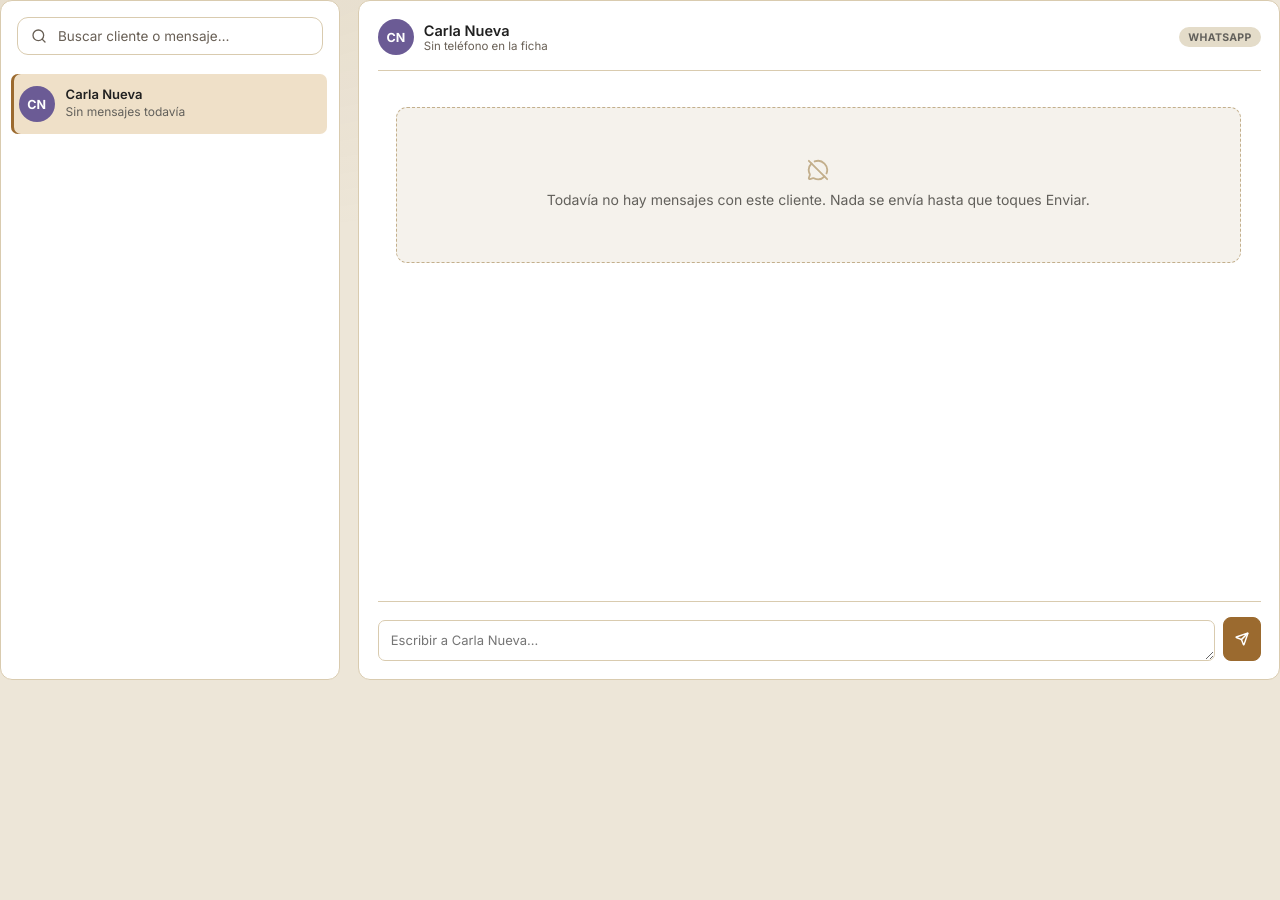
Scenario: Messages · Iniciar chat (tarea 38) › si el envío falla muestra el motivo del servidor y conserva el borrador
Type "Primer mensaje" into the text box named "Mensaje para Carla Nueva". click: (796, 640)
box: [378,620,1215,661]
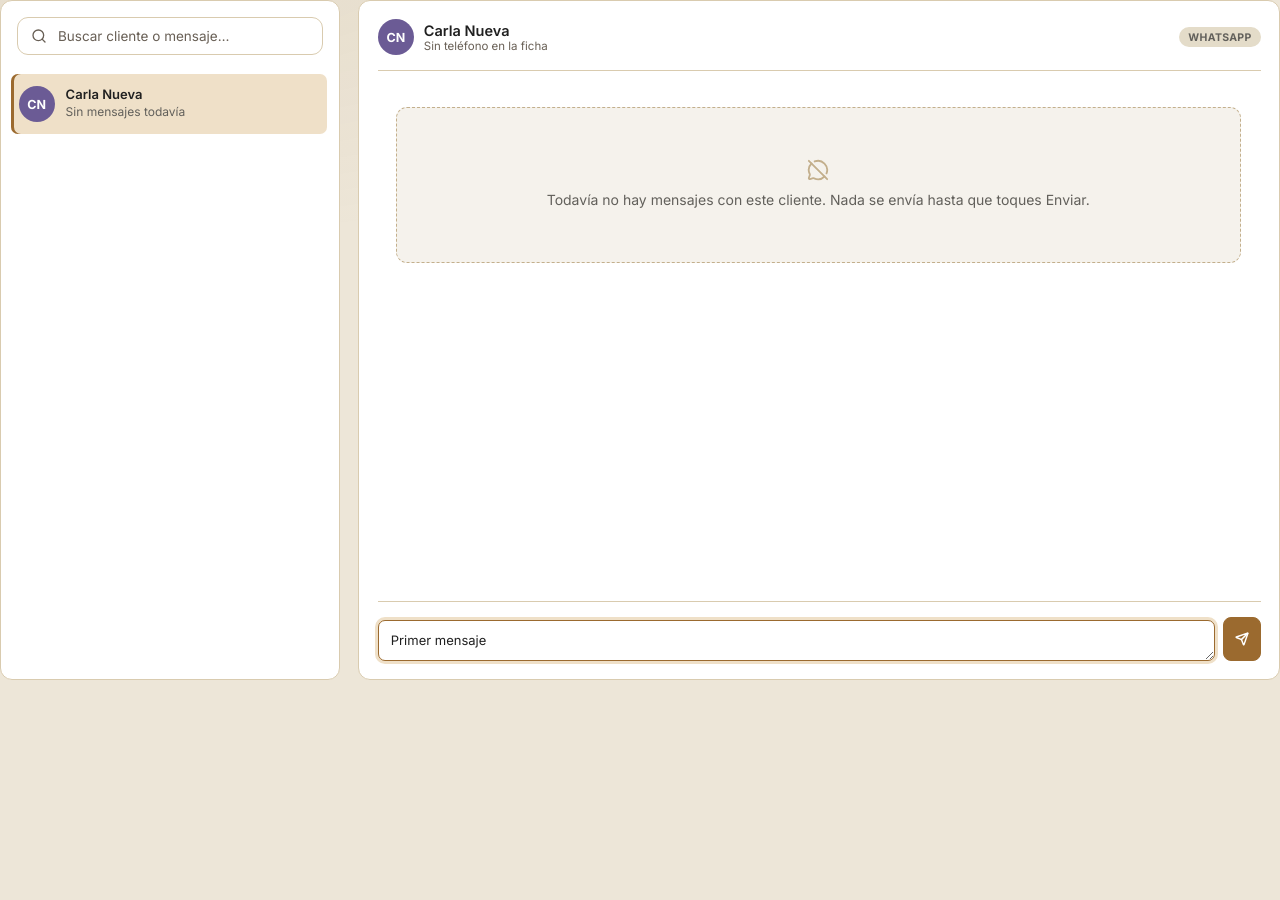
Click the button named "Enviar". click: (1242, 639)
box: [1223,617,1261,661]
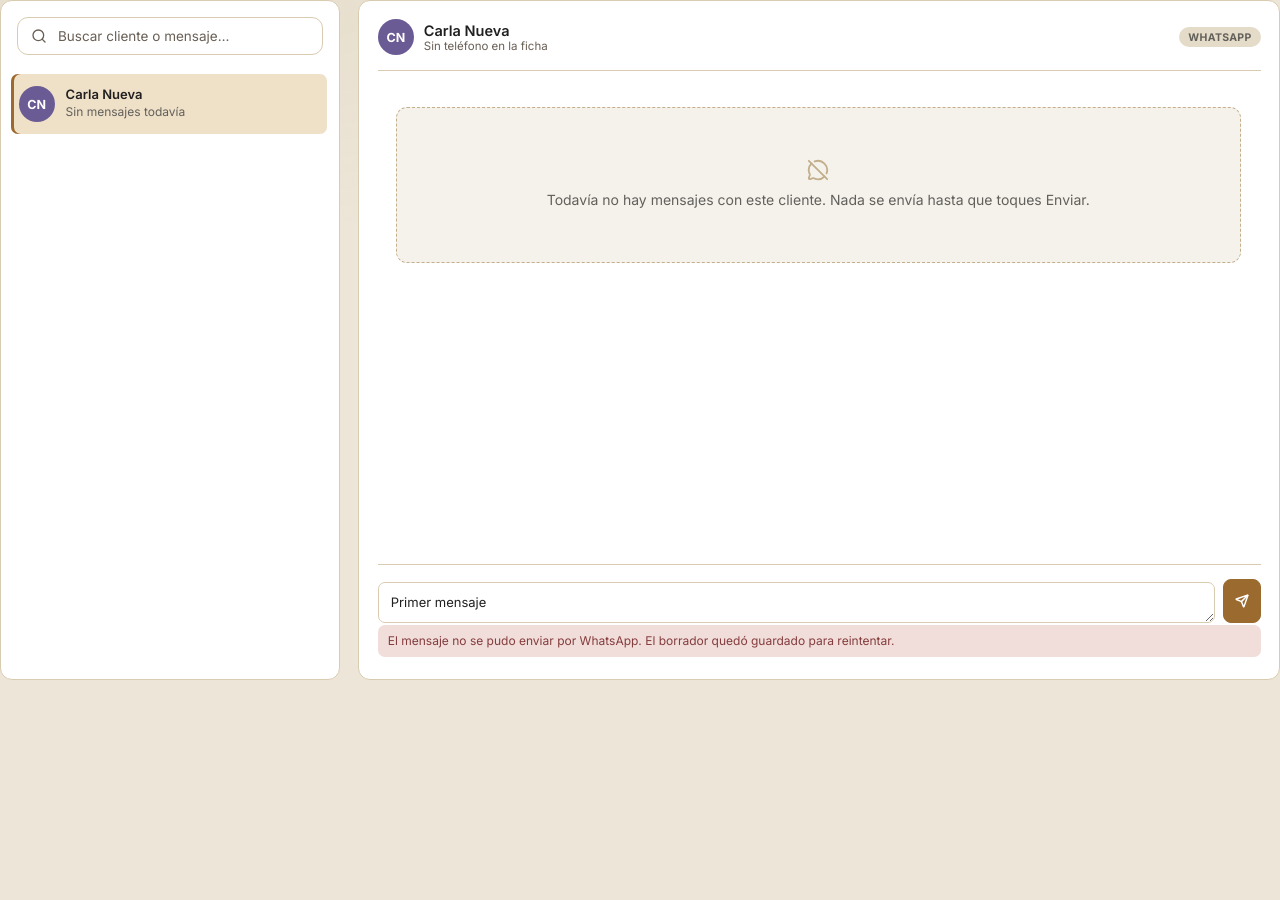
Expected: the message shows "no se pudo enviar por WhatsApp", [388,633,894,648]
